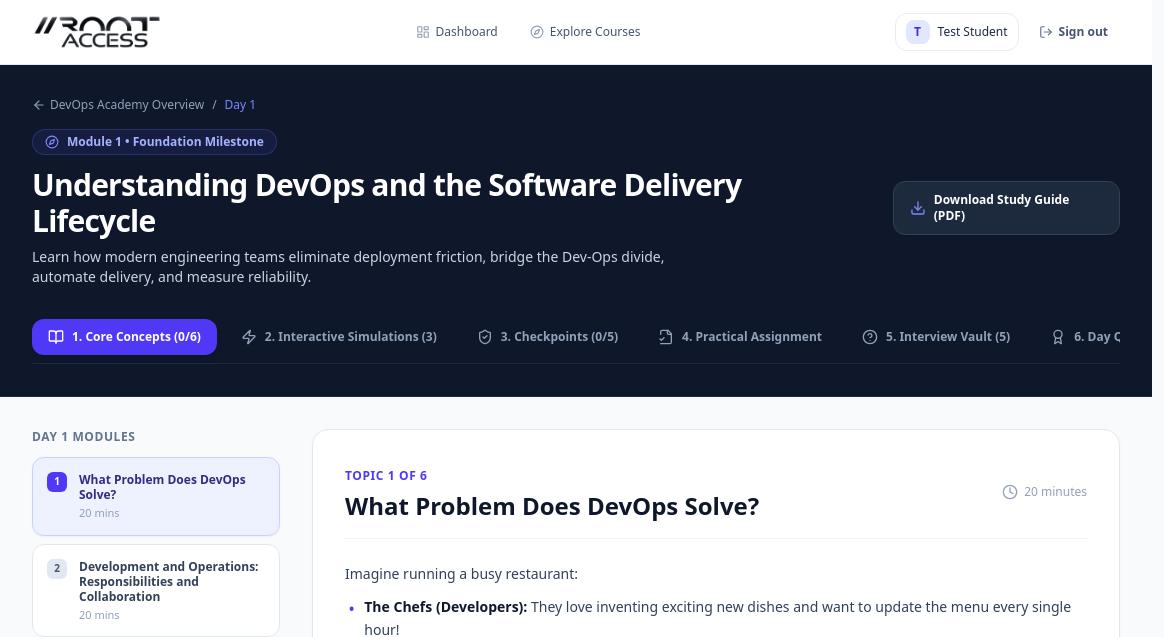
Scenario: DevOpsDay1LessonPage › renders Day 1 topics and switches to simulations and checkpoints tabs when enrolled
Expected: the heading "Understanding DevOps and the Software Delivery Lifecycle" is shown, [32,164,741,241]
// Switch to Interactive Simulations Tab
Click the button "2. Interactive Simulations (3)".
click(339, 337)  # box [225,319,453,355]
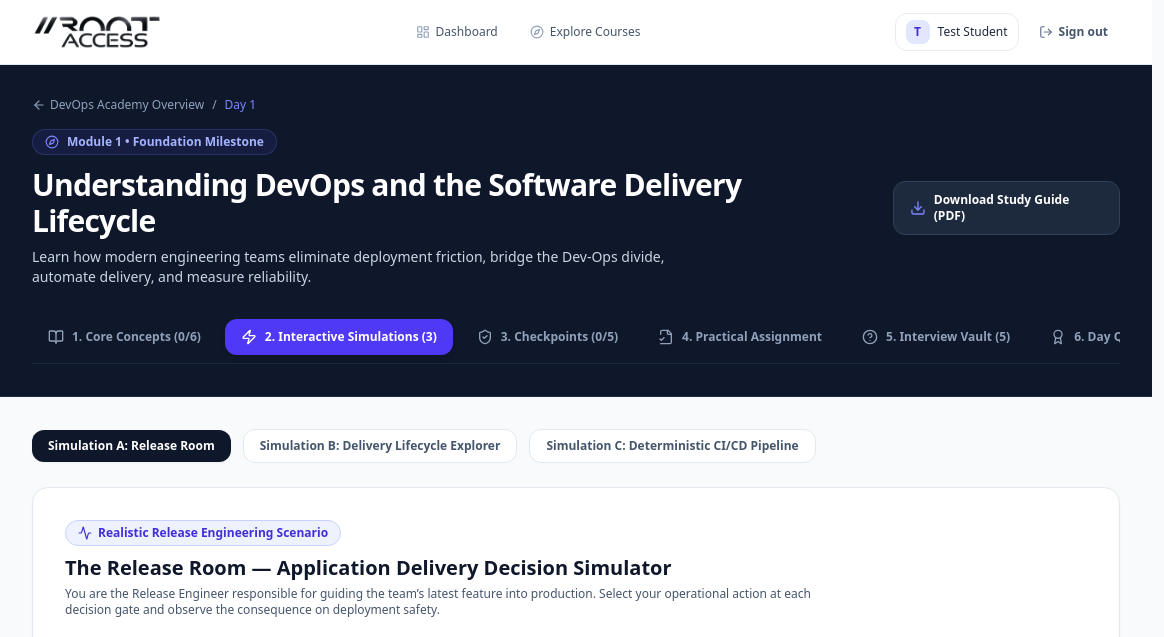
Now the heading "The Release Room — Application Delivery Decision Simulator" is shown, box [65,554,672,581]
// Switch to Checkpoints Tab
Click the button "3. Checkpoints (0/5)".
click(547, 337)  # box [461,319,634,355]
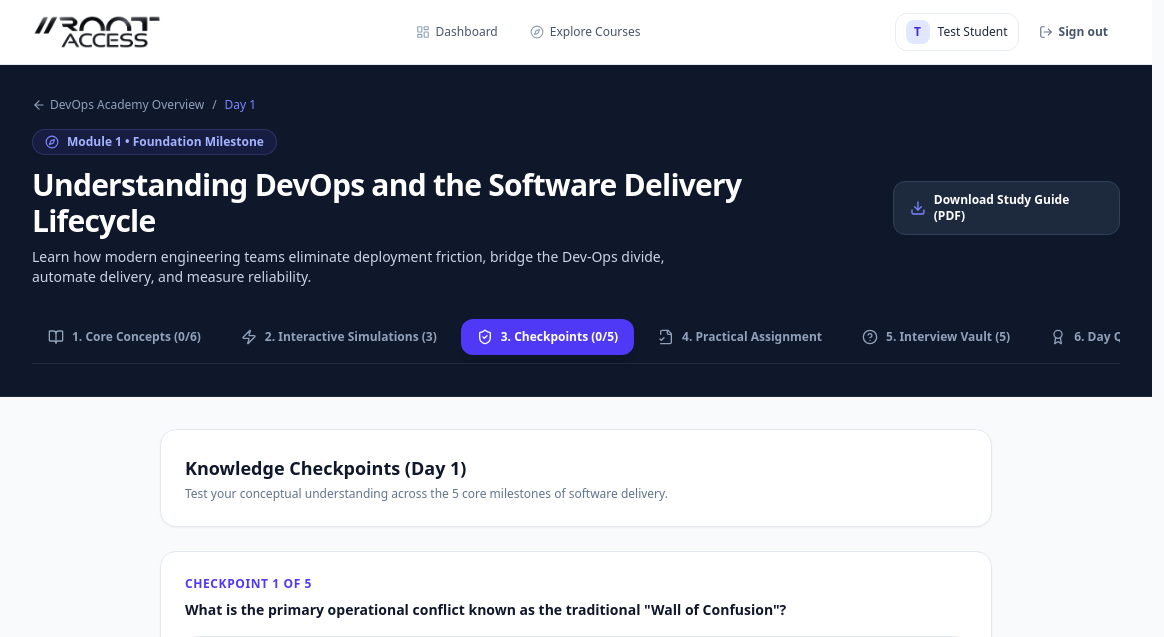
Now the heading "Knowledge Checkpoints (Day 1)" is shown, box [185,456,466,480]
